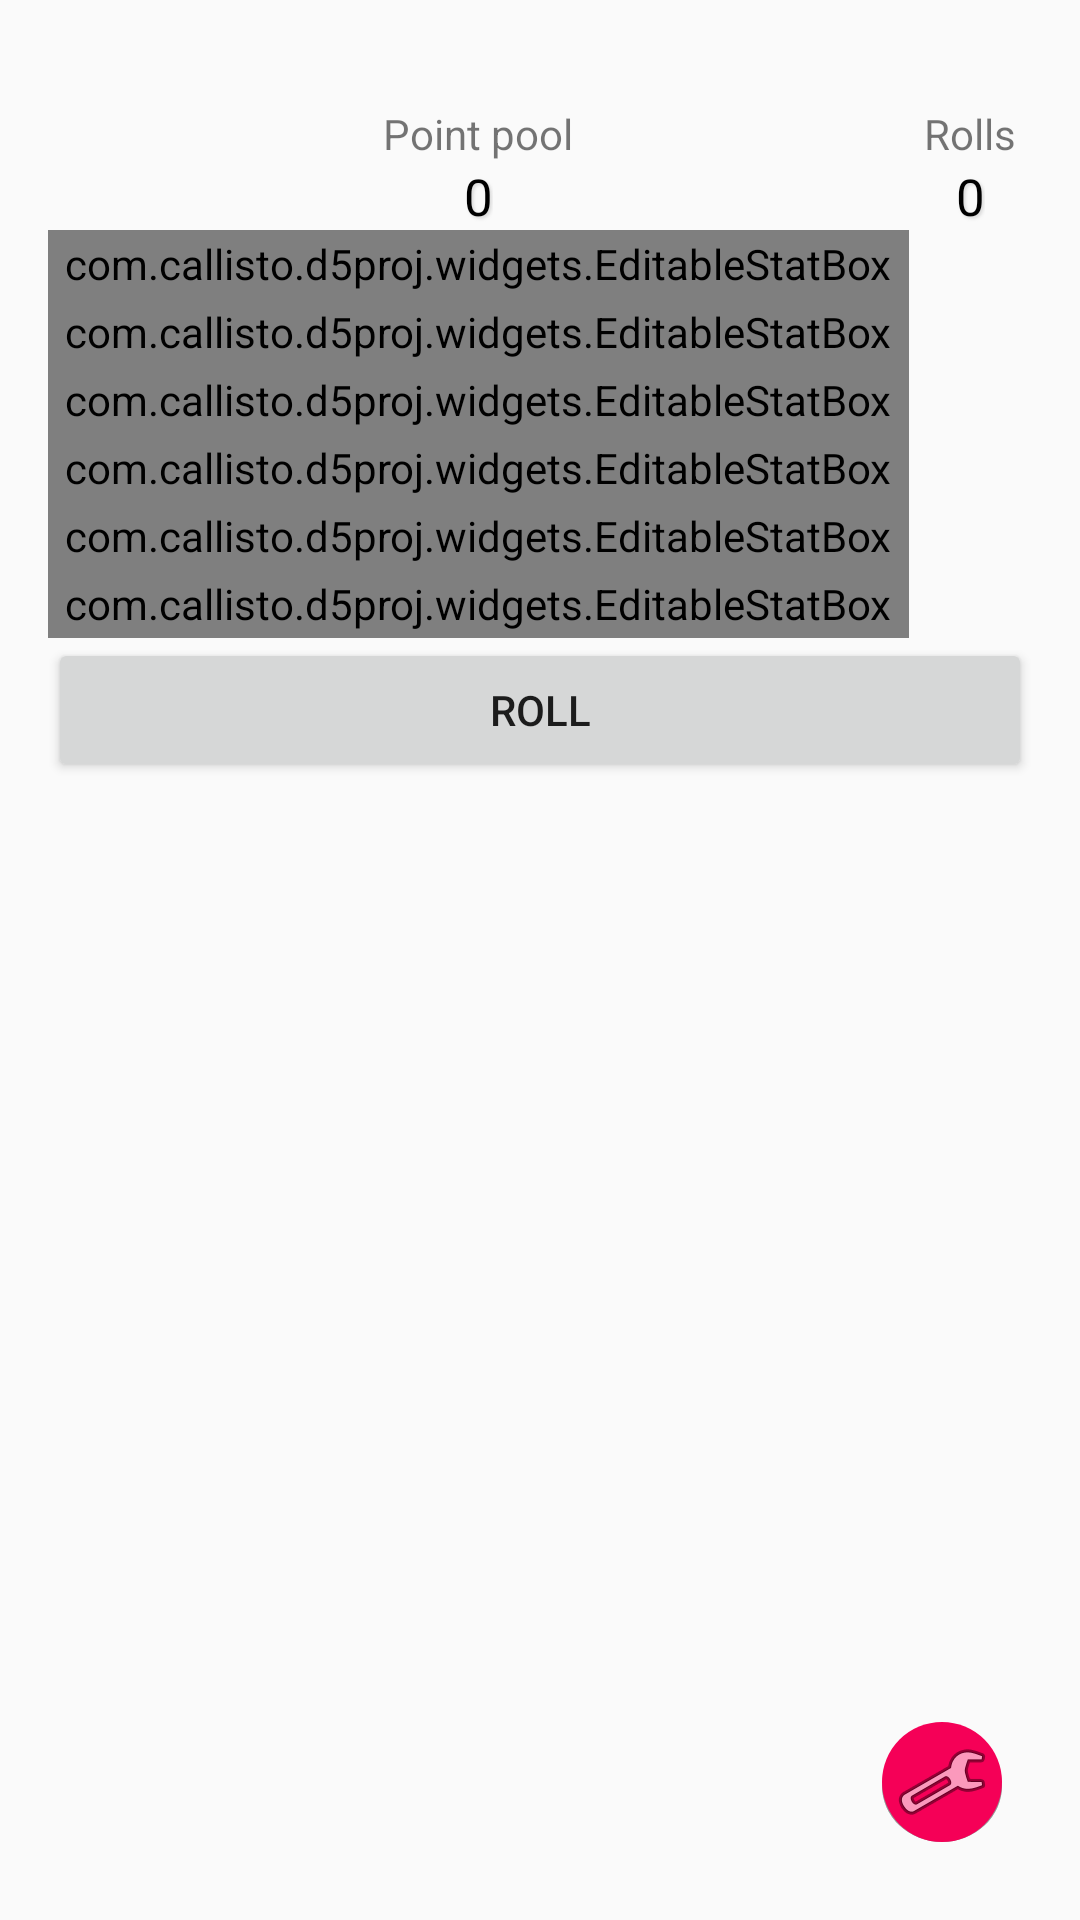

Where to tap for icons on this 1080x1920 app screen, as (x=x, y=y):
manage: (x=942, y=1782)
